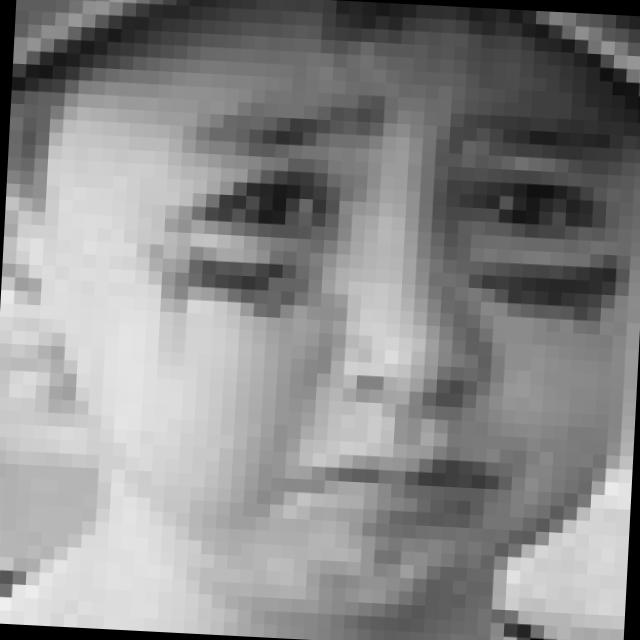sad: (134, 76, 632, 571)
